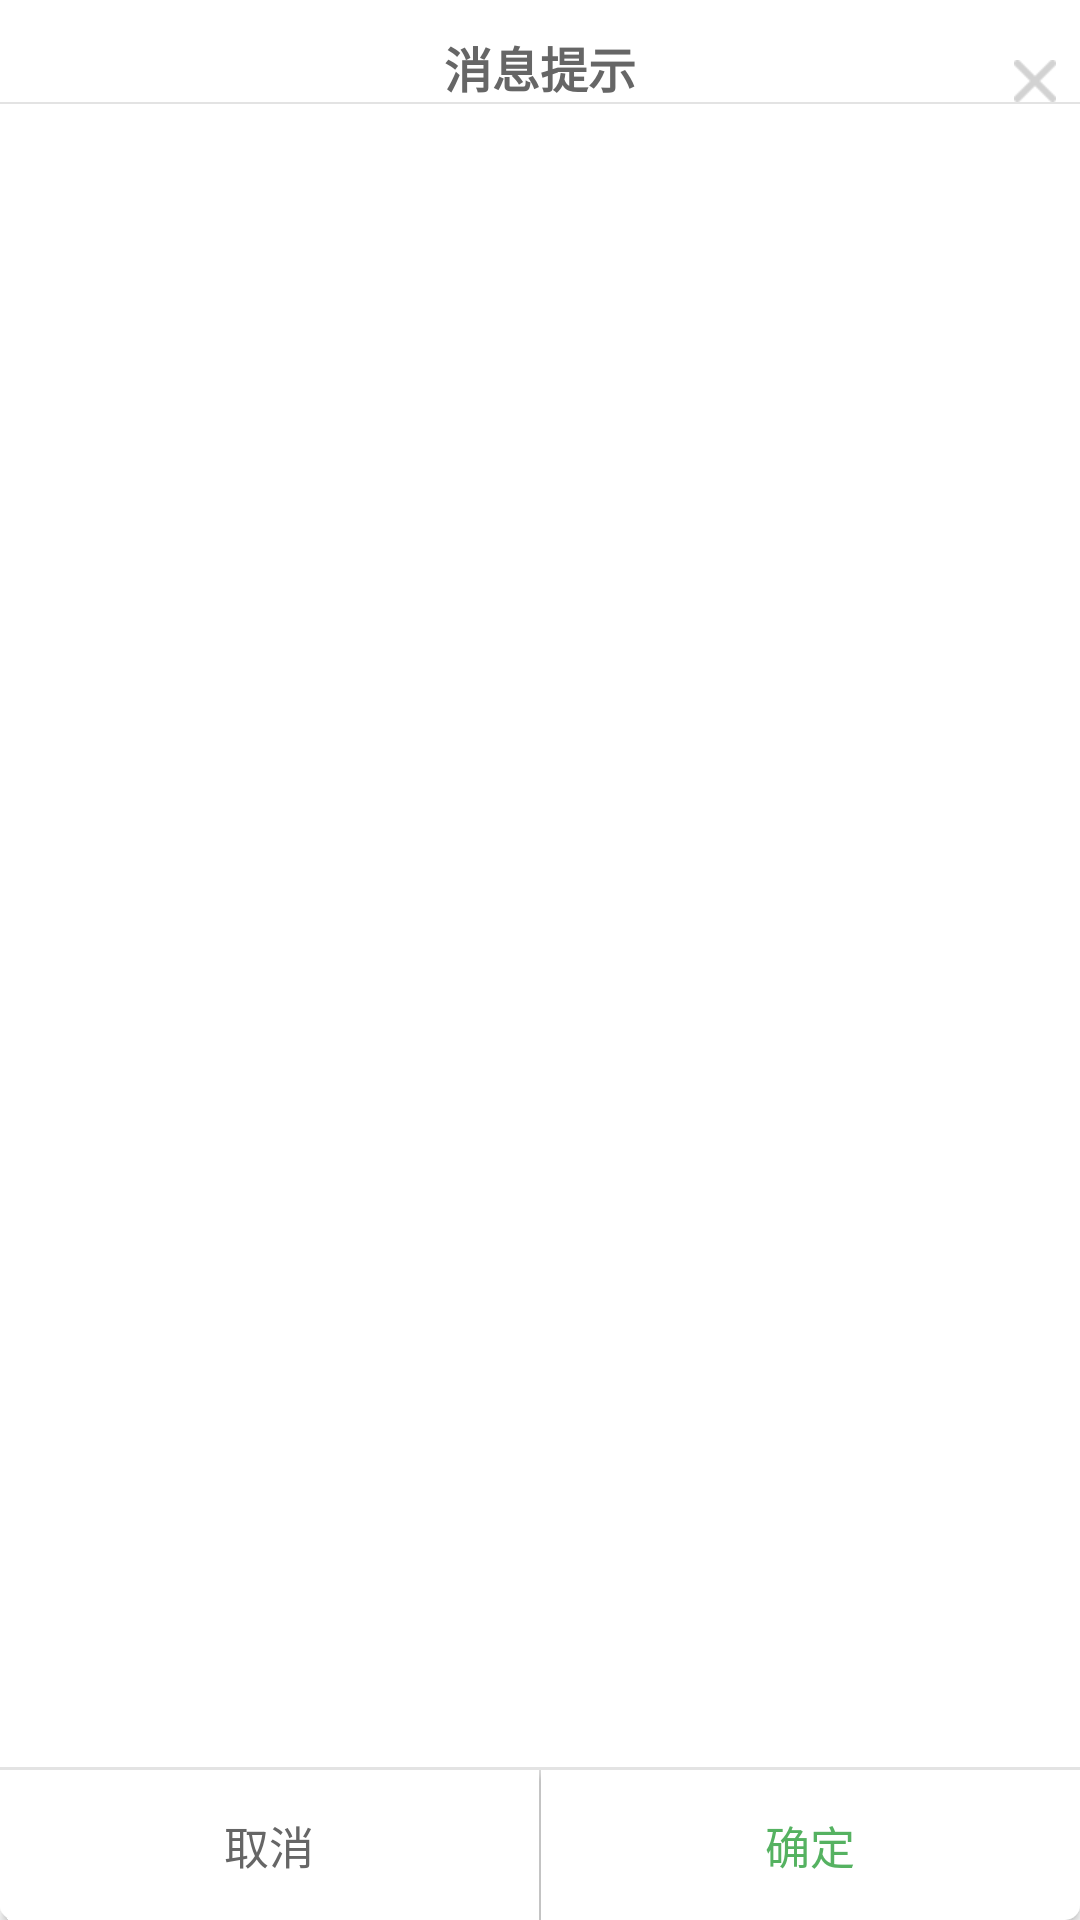

Where icons sit on this 1080w x 1920h app screen, as (x1, y1, x2, y2):
close: (1014, 60, 1056, 102)
